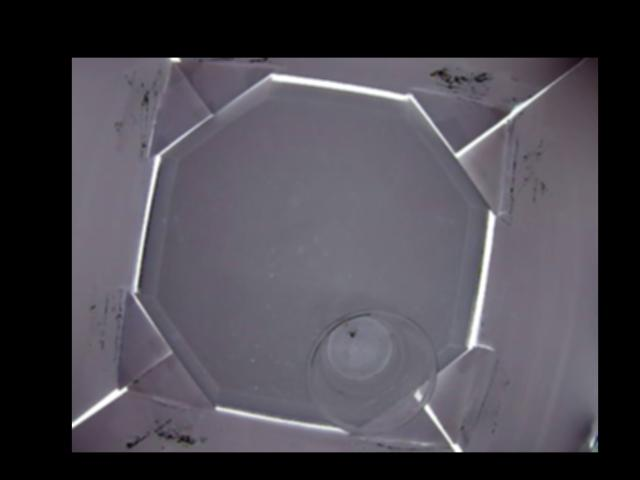Cup: (302, 306, 437, 434)
